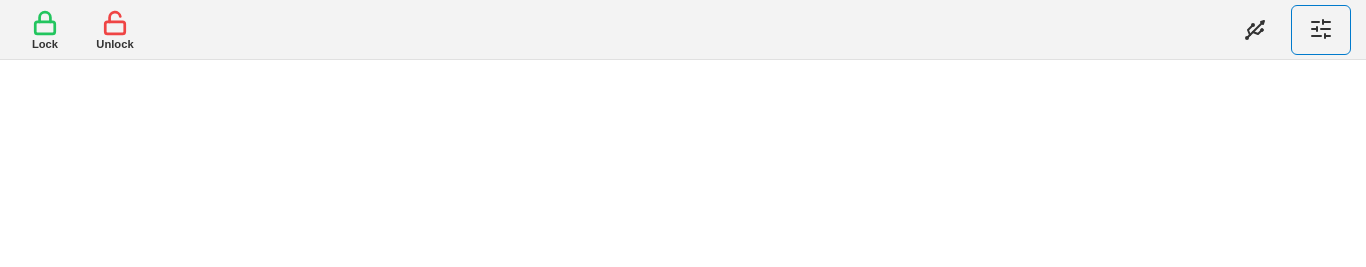
Toolbar - advanced menu › shows the zip mode in capitals and opens the compression dialog
The image size is (1366, 267).
Click the 4th button with class "tool-btn" at (1321, 30), box [1291, 4, 1351, 54]
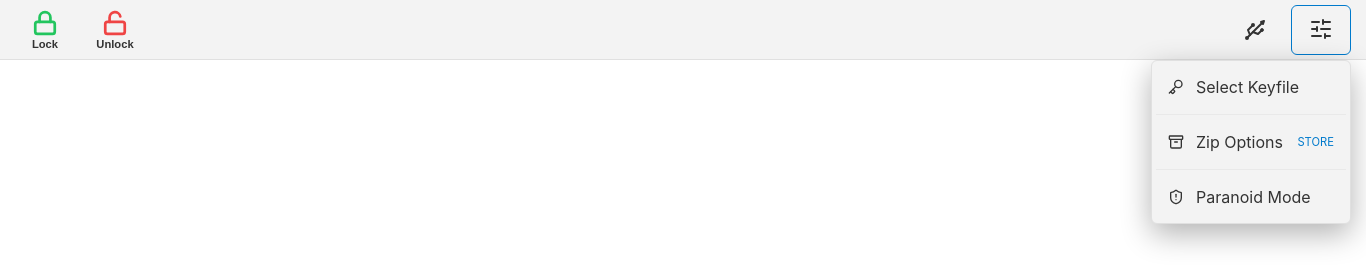
Now the text "STORE" is shown, box [1298, 134, 1334, 148]
Click the text "Zip Options" at (1239, 142), box [1196, 132, 1283, 152]
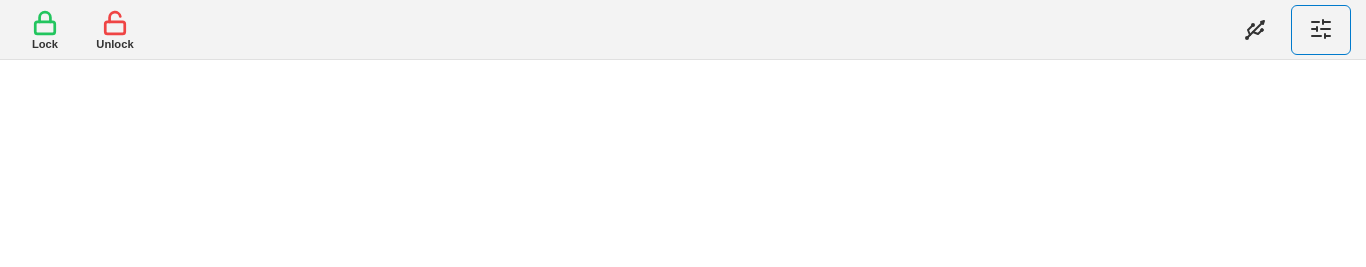
Now the text "Paranoid Mode" is gone
